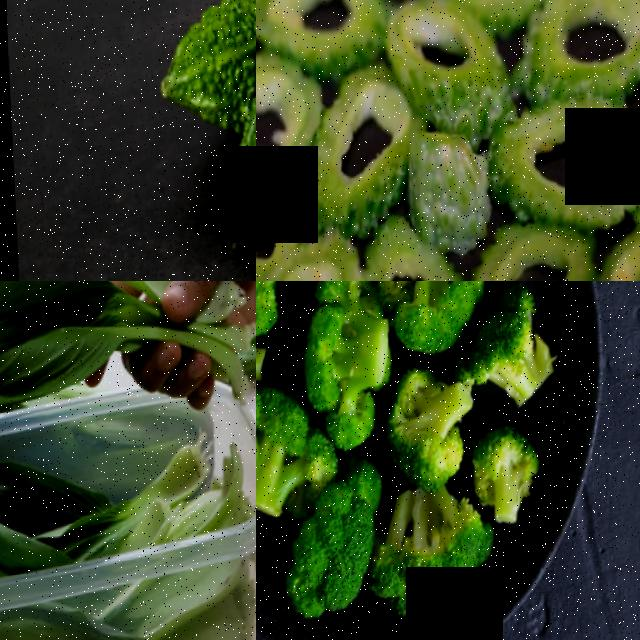bitter gourd: (144, 0, 256, 94)
bok choy: (0, 468, 228, 567), (0, 281, 143, 399)
broccoli: (279, 497, 368, 640), (315, 300, 388, 445), (477, 308, 567, 425), (379, 493, 471, 601), (390, 366, 482, 472), (256, 390, 316, 533), (471, 433, 544, 538), (401, 281, 467, 348), (256, 299, 283, 392)
